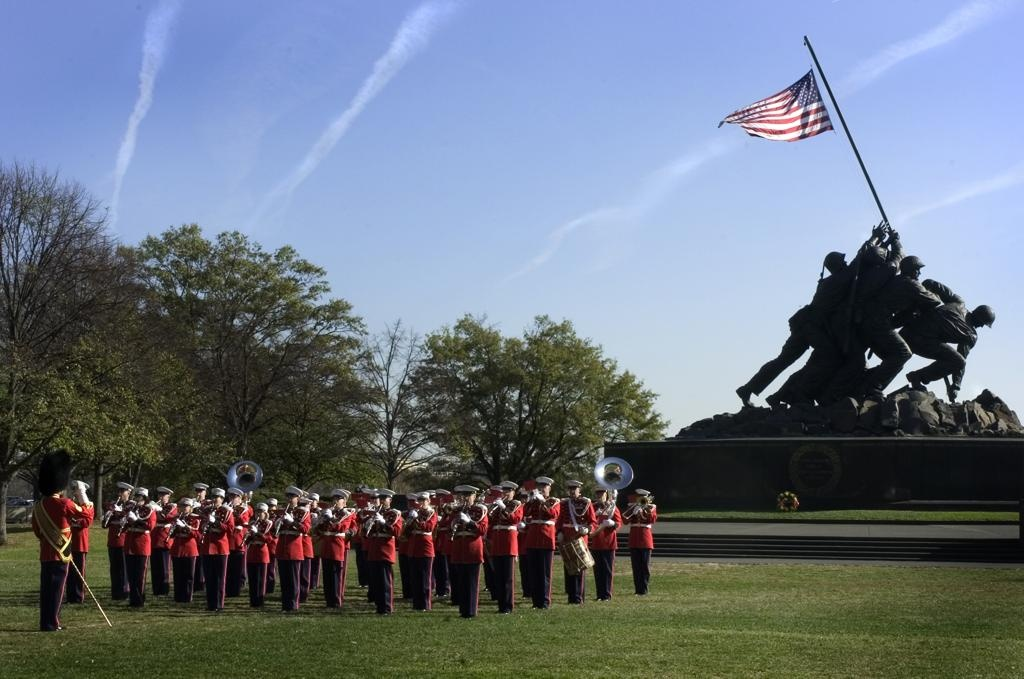human_face: (834, 256, 848, 270), (116, 486, 128, 500), (973, 316, 987, 328), (910, 264, 920, 280), (461, 493, 473, 506), (536, 482, 546, 496), (502, 486, 512, 499), (595, 488, 605, 501), (158, 491, 168, 503), (228, 493, 238, 505), (254, 509, 264, 521), (332, 495, 342, 507), (378, 496, 388, 508), (568, 485, 578, 497), (73, 486, 83, 498), (211, 494, 221, 504), (286, 494, 296, 504), (637, 494, 647, 504), (195, 487, 203, 499), (308, 497, 316, 509), (418, 497, 426, 508), (135, 494, 143, 504), (180, 502, 188, 512), (268, 506, 276, 516), (371, 496, 379, 506), (408, 499, 412, 509)
